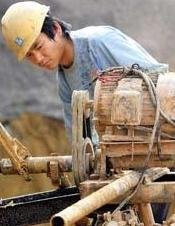gloves: (0, 2, 19, 55)
hard-hat: (0, 37, 42, 97)
